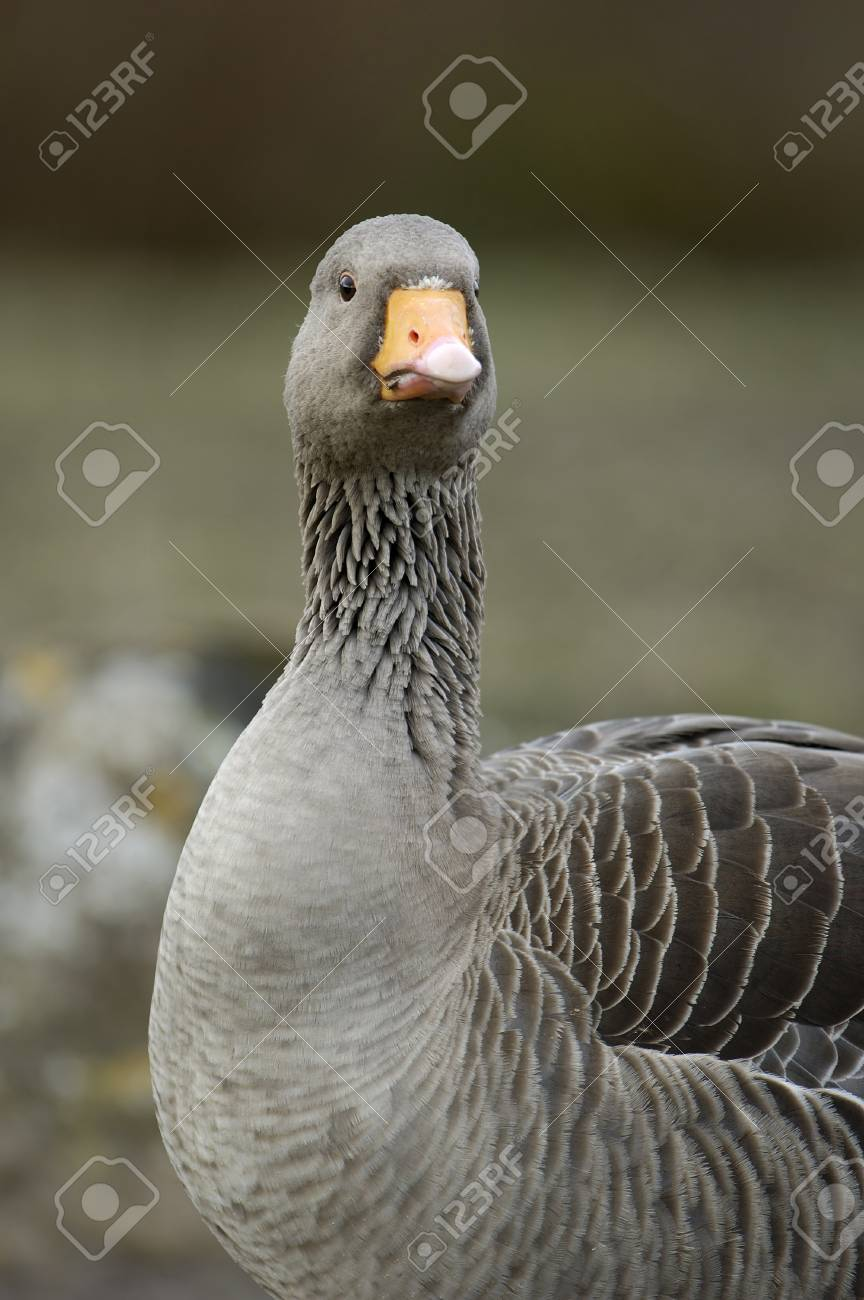goose: (136, 209, 864, 1300)
